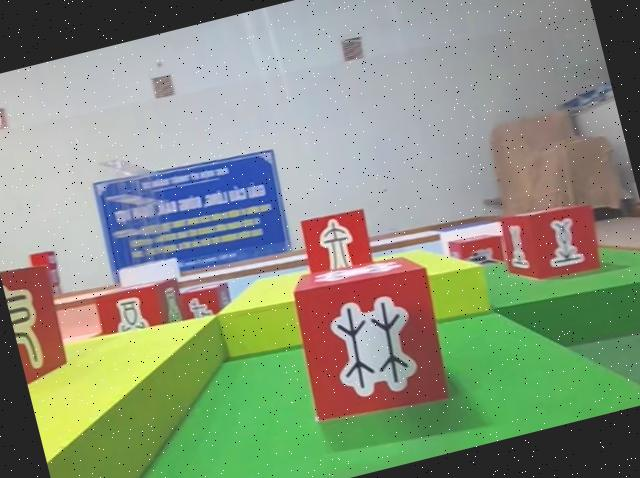R1: (446, 226, 509, 278)
R2 Fake: (0, 253, 79, 392), (295, 203, 378, 280)
R2 Real: (280, 245, 458, 430), (495, 194, 608, 290), (90, 275, 189, 350)
